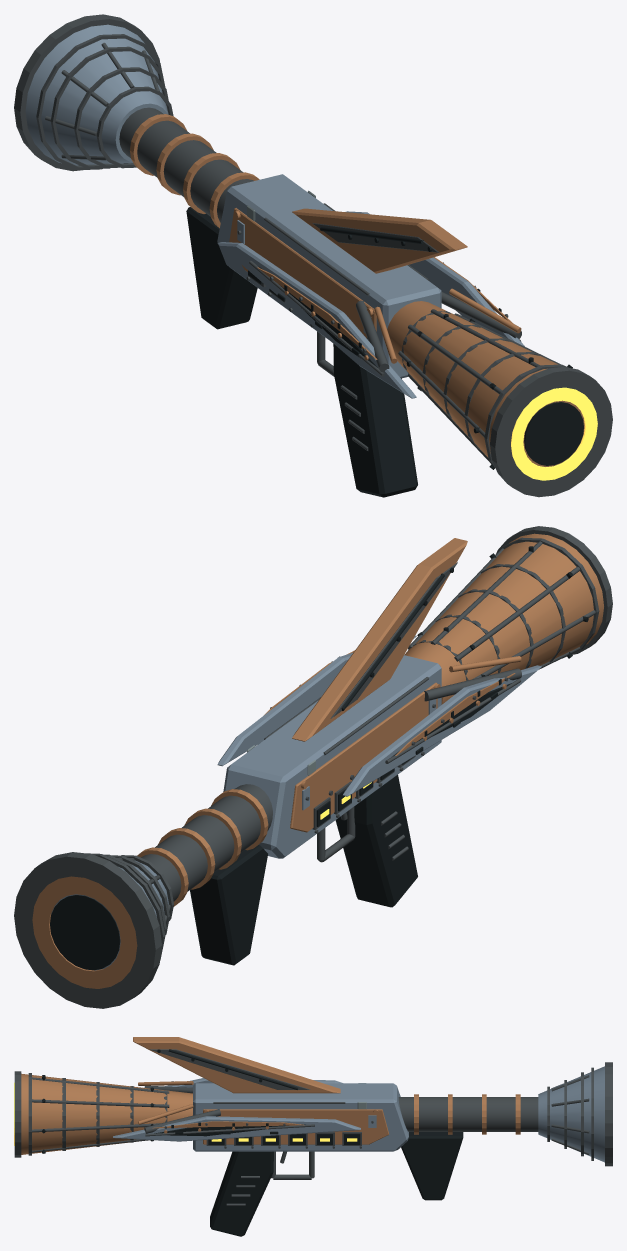
Rendered from kick_0.glb.
3 views of the same model, one above another, from view 1: azimuth 30°, elevation 25°; view 2: azimuth 150°, elevation 25°; view 3: azimuth 270°, elevation 25° (orthographic). The views are drawn at different scales.
Visible parts, largest first — view 1: Weapon_kick_v1; view 2: Weapon_kick_v1; view 3: Weapon_kick_v1.
Part boxes in pixels (x1=…): Weapon_kick_v1: x1=14, y1=14, x2=612, y2=497; Weapon_kick_v1: x1=14, y1=526, x2=612, y2=1008; Weapon_kick_v1: x1=14, y1=1037, x2=612, y2=1236.
Bounding box in the file's own units: 0.156 × 0.3139 × 0.884.
